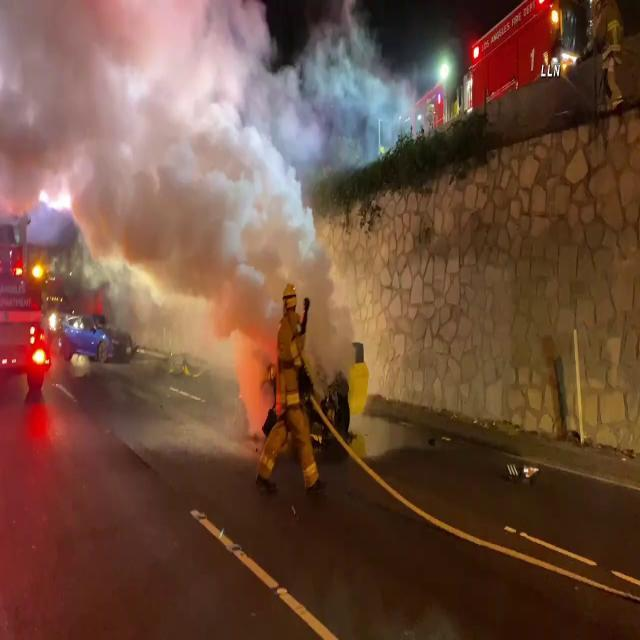Smoke: (2, 0, 362, 419), (274, 0, 420, 158)
